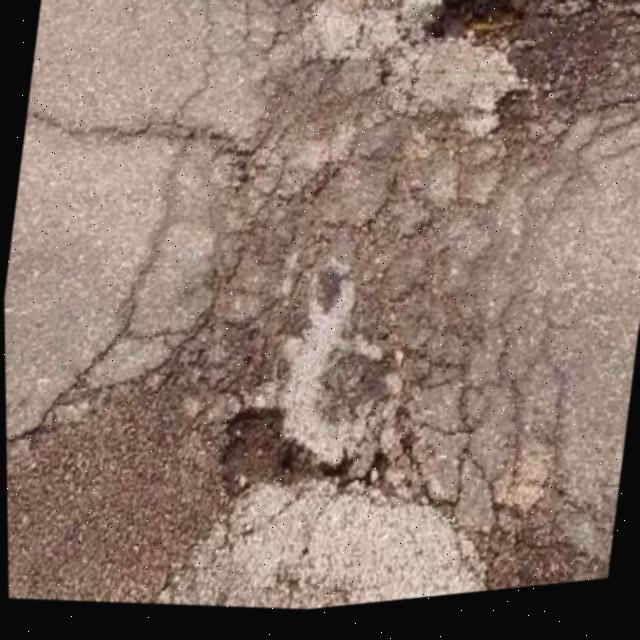Pothole: (210, 397, 304, 517), (421, 0, 536, 68)
